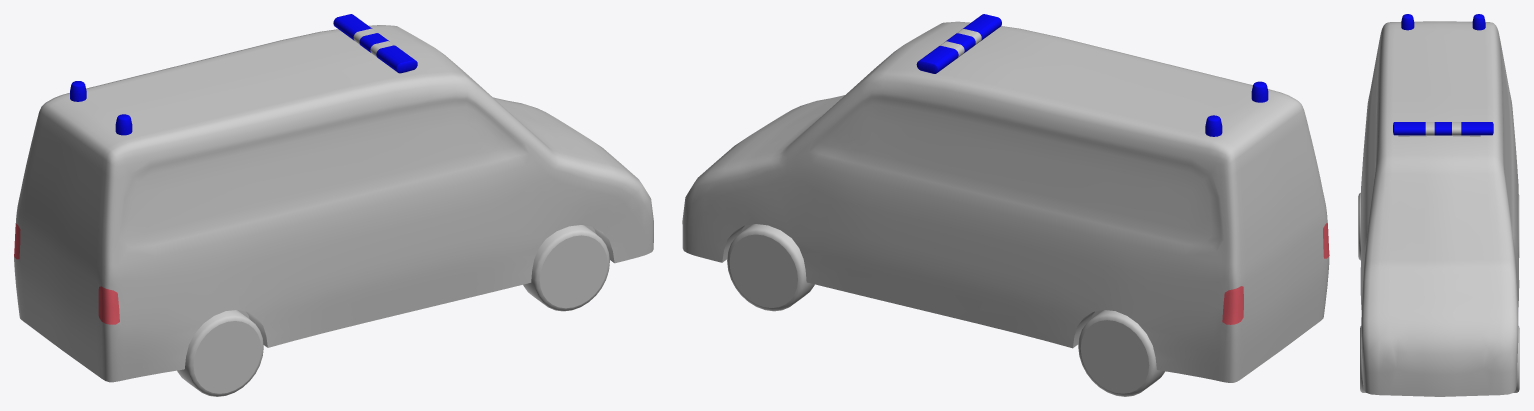
File: AMBULANCE.glb
3 views of the same model, side by side, from view 1: azimuth 30°, elevation 25°; view 2: azimuth 150°, elevation 25°; view 3: azimuth 270°, elevation 25° (orthographic). The views are drawn at different scales.
Parts seen in each view (by area): view 1: body, light1, light; view 2: body, light1, light; view 3: body, light1.
Boxes of the visible parts, x1,y1,x2,y2 form: body: [14, 25, 653, 396]; light1: [70, 14, 417, 135]; light: [14, 223, 119, 324]; body: [682, 21, 1329, 396]; light1: [916, 14, 1268, 136]; light: [1222, 222, 1329, 324]; body: [1358, 21, 1519, 396]; light1: [1393, 14, 1493, 135].
Bounding box in the file's own units: 5.18 × 2.44 × 1.66.
